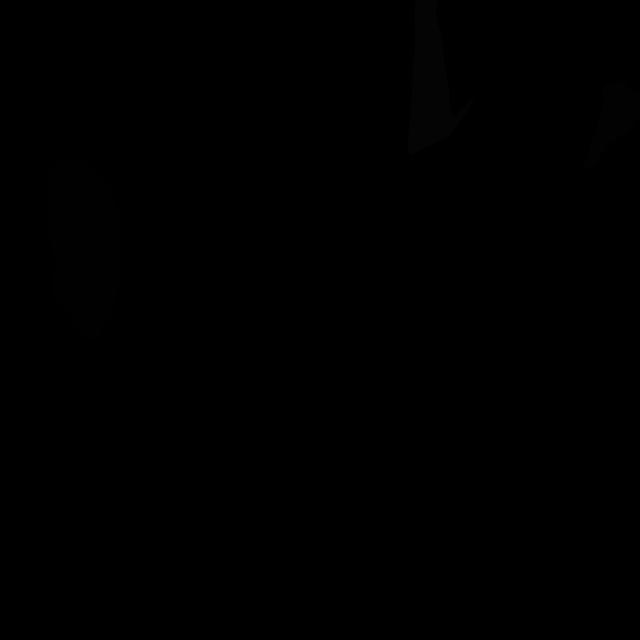cardboard: (584, 80, 640, 169)
rigid_plastic: (46, 157, 120, 342)
soft_plastic: (408, 0, 476, 156)
